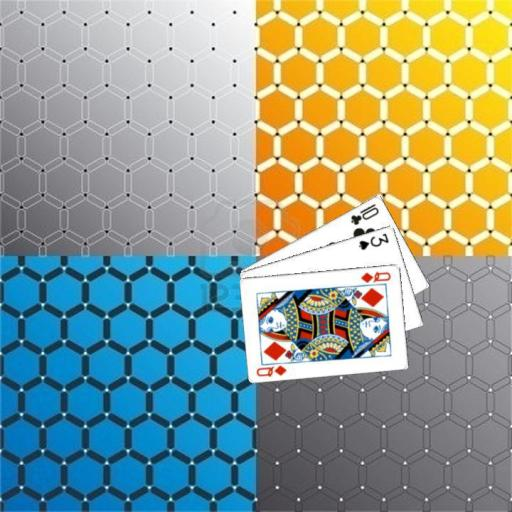10C: (348, 201, 380, 226)
3S: (356, 230, 391, 251)
QD: (358, 268, 393, 285), (253, 362, 288, 378)
